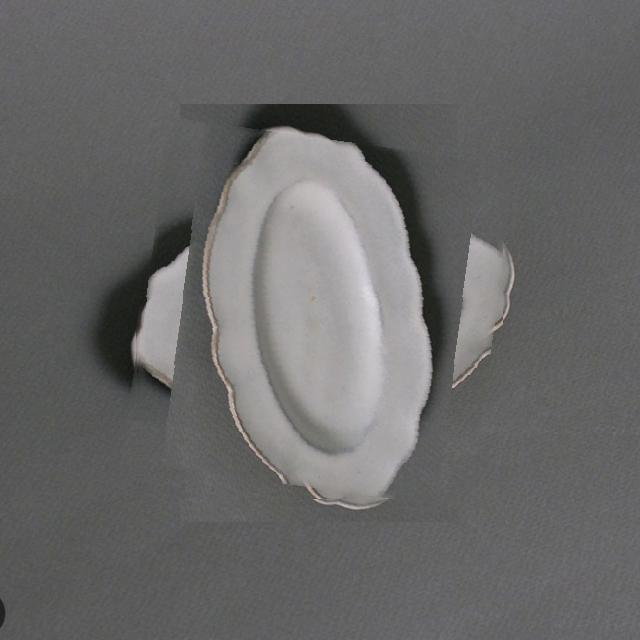recyclable: (133, 128, 503, 499)
